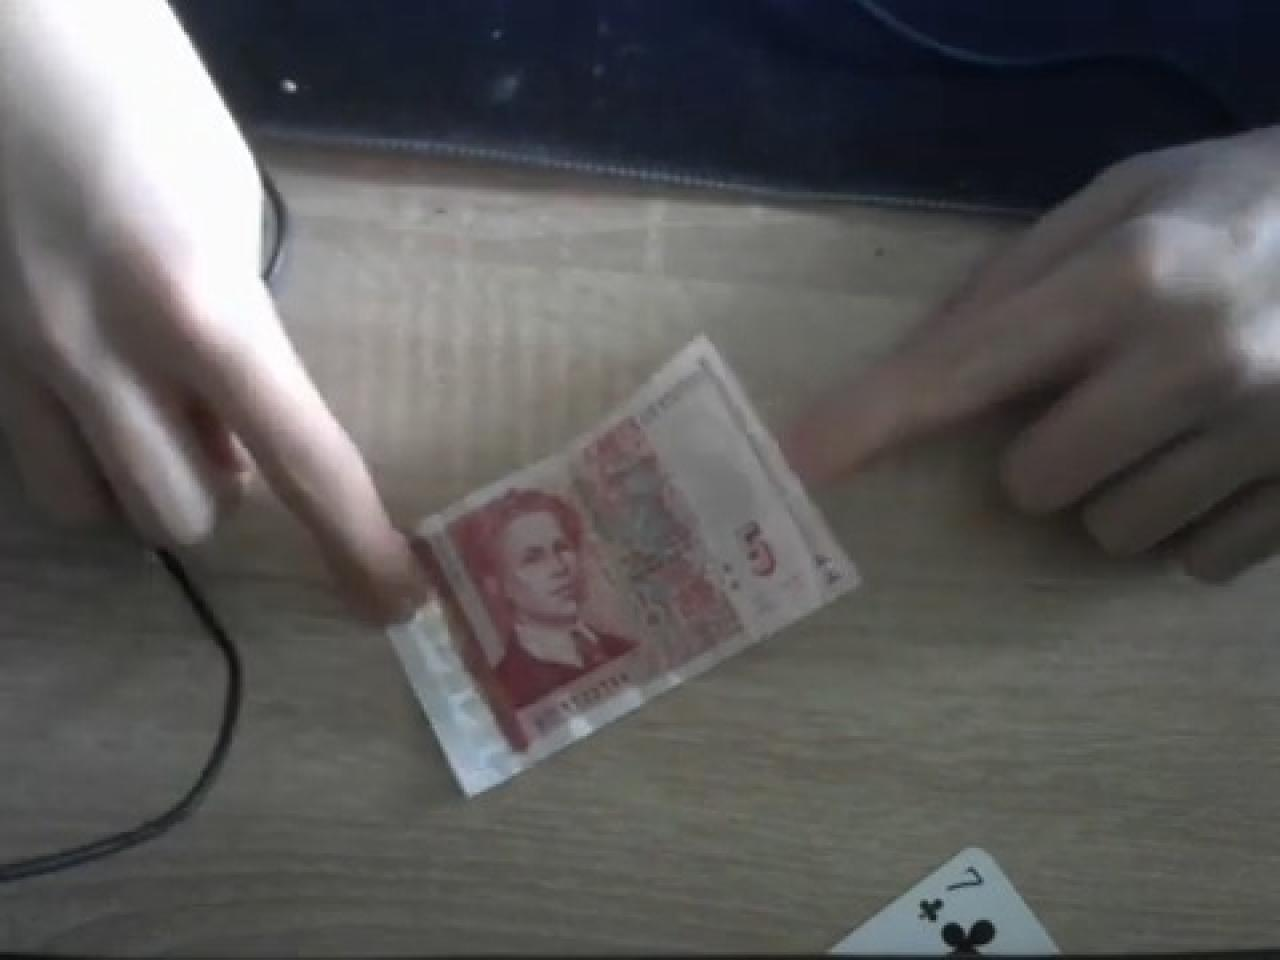5leva: (387, 336, 864, 803)
